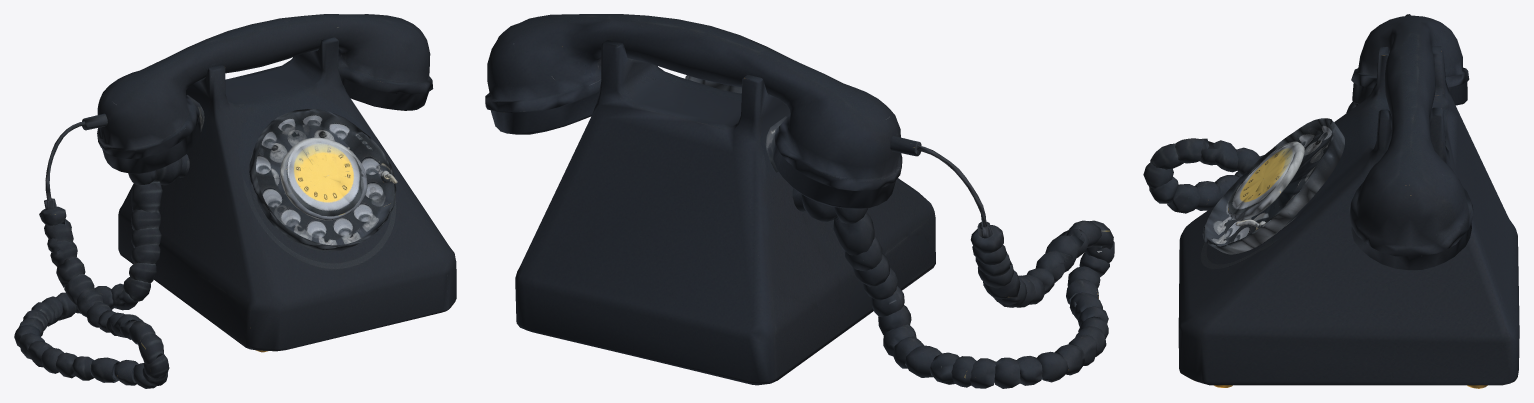
Rendered from DeskTelephone.fbx.
The picture shows the model from 3 angles, left to right: view 1: azimuth 30°, elevation 25°; view 2: azimuth 150°, elevation 25°; view 3: azimuth 270°, elevation 25°; orthographic projection. The views are drawn at different scales.
Parts seen in each view (by area): view 1: Mesh_0; view 2: Mesh_0; view 3: Mesh_0.
Part boxes in pixels (left/top/right/bottom): Mesh_0: left=14, top=14, right=456, bottom=388; Mesh_0: left=485, top=14, right=1114, bottom=388; Mesh_0: left=1143, top=14, right=1519, bottom=388.
Bounding box in the file's own units: 100 × 53.99 × 65.42.
Materials: 1 (1 with a texture image).
